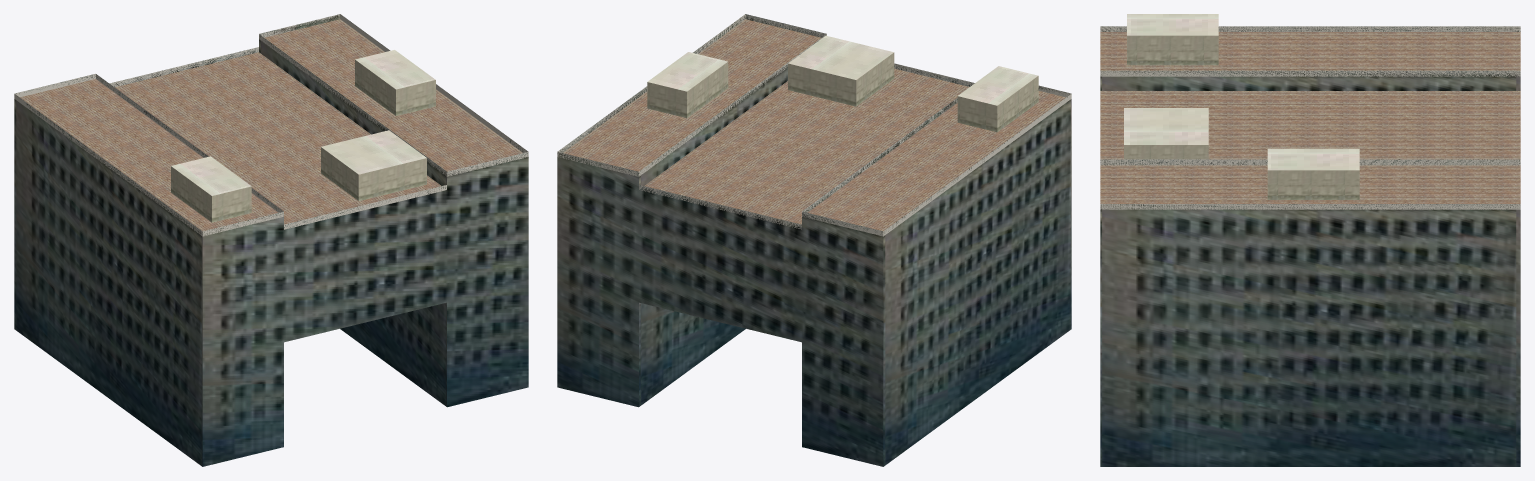
3 renders of one model, left to right at view 1: azimuth 30°, elevation 25°; view 2: azimuth 150°, elevation 25°; view 3: azimuth 270°, elevation 25°, orthographic. The views are drawn at different scales.
Parts seen in each view (by area): view 1: Object_1, Object_7, Object_8, Object_6, Object_9, Object_5, Object_10, Object_4, Object_13, Object_11, Object_14, Object_12 (+2 smaller); view 2: Object_1, Object_7, Object_6, Object_8, Object_9, Object_10, Object_4, Object_5, Object_13, Object_11, Object_14, Object_12 (+1 smaller); view 3: Object_1, Object_7, Object_6, Object_8, Object_5, Object_4, Object_10, Object_13, Object_11, Object_12, Object_14, Object_9.
Part boxes in pixels (<box>): Object_1: <box>14,14,528,466</box>; Object_7: <box>115,52,440,224</box>; Object_8: <box>264,19,522,171</box>; Object_6: <box>20,79,278,231</box>; Object_9: <box>321,147,426,200</box>; Object_5: <box>14,73,283,236</box>; Object_10: <box>321,130,426,174</box>; Object_4: <box>259,14,528,176</box>; Object_13: <box>171,166,251,222</box>; Object_11: <box>355,60,435,115</box>; Object_14: <box>171,156,251,195</box>; Object_12: <box>355,50,435,89</box>; Object_1: <box>557,14,1071,466</box>; Object_7: <box>645,68,969,224</box>; Object_6: <box>807,91,1065,231</box>; Object_8: <box>563,19,821,171</box>; Object_9: <box>788,52,894,106</box>; Object_10: <box>788,35,893,79</box>; Object_4: <box>557,14,826,176</box>; Object_5: <box>802,85,1071,236</box>; Object_13: <box>957,76,1038,132</box>; Object_11: <box>647,62,728,117</box>; Object_14: <box>958,66,1037,105</box>; Object_12: <box>647,52,727,91</box>; Object_1: <box>1100,26,1520,466</box>; Object_7: <box>1100,91,1520,159</box>; Object_6: <box>1100,32,1520,70</box>; Object_8: <box>1100,165,1520,203</box>; Object_5: <box>1100,26,1520,76</box>; Object_4: <box>1100,159,1520,209</box>; Object_10: <box>1124,108,1208,144</box>; Object_13: <box>1127,35,1218,65</box>; Object_11: <box>1267,170,1359,199</box>; Object_12: <box>1267,148,1359,170</box>; Object_14: <box>1127,14,1218,35</box>; Object_9: <box>1124,145,1208,159</box>.
Bounding box in the file's own units: 1283 × 1283 × 966.
11 materials, 10 textured.
